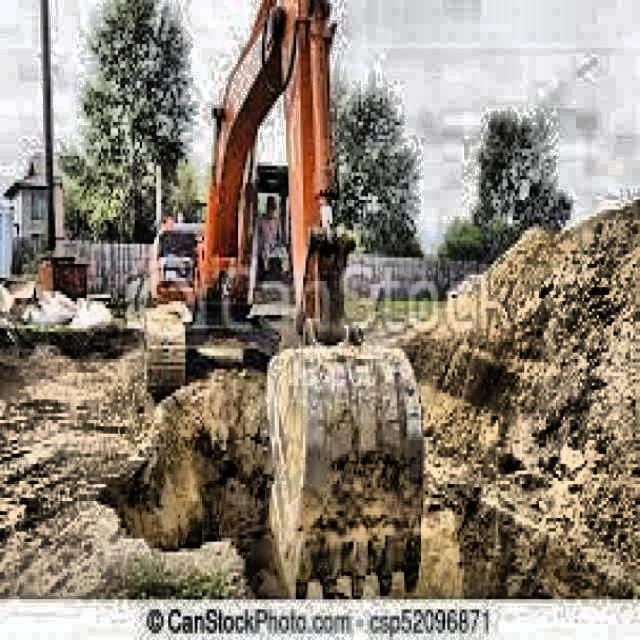bull_dozer/loader/grader: (142, 1, 424, 600)
person: (258, 193, 282, 260)
